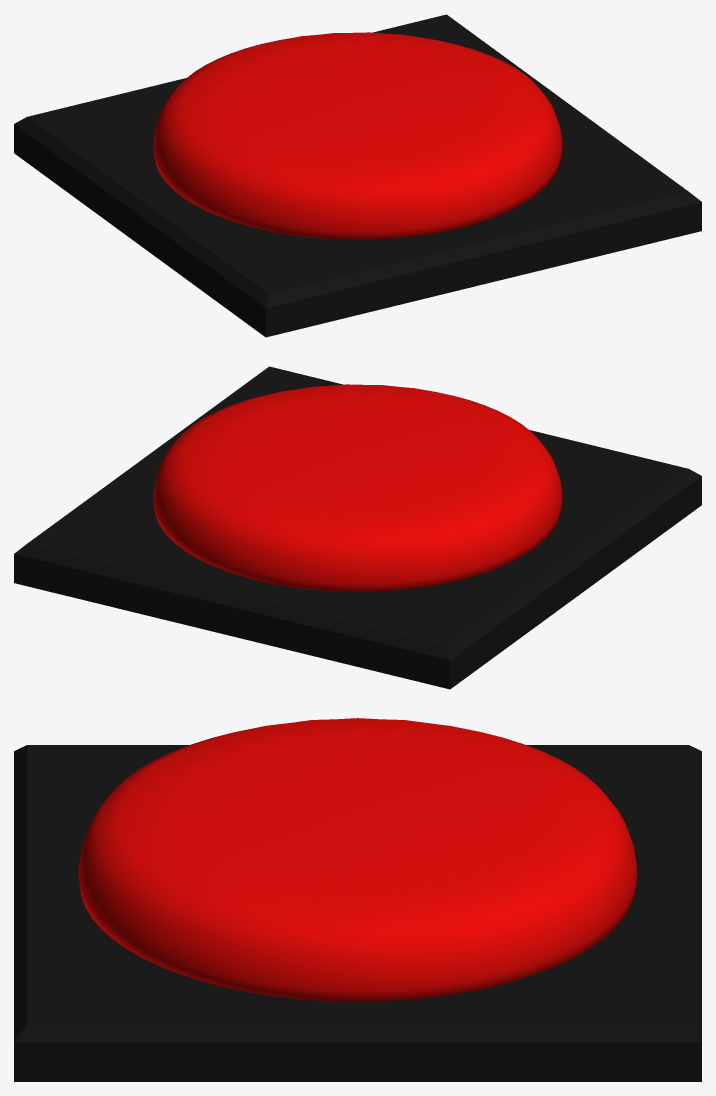
Rendered from batton.glb.
3 renders of one model, top to bottom at view 1: azimuth 30°, elevation 25°; view 2: azimuth 150°, elevation 25°; view 3: azimuth 270°, elevation 25°, orthographic. The views are drawn at different scales.
Visible parts, largest first — view 1: Cylinder, Cube; view 2: Cylinder, Cube; view 3: Cylinder, Cube.
Part boxes in pixels (bbox=[...]): Cylinder: bbox=[153, 32, 562, 239]; Cube: bbox=[14, 14, 701, 337]; Cylinder: bbox=[153, 384, 562, 591]; Cube: bbox=[14, 366, 701, 689]; Cylinder: bbox=[78, 718, 637, 1001]; Cube: bbox=[14, 745, 701, 1081].
Bounding box in the file's own units: 3.5 × 0.6993 × 3.5.
